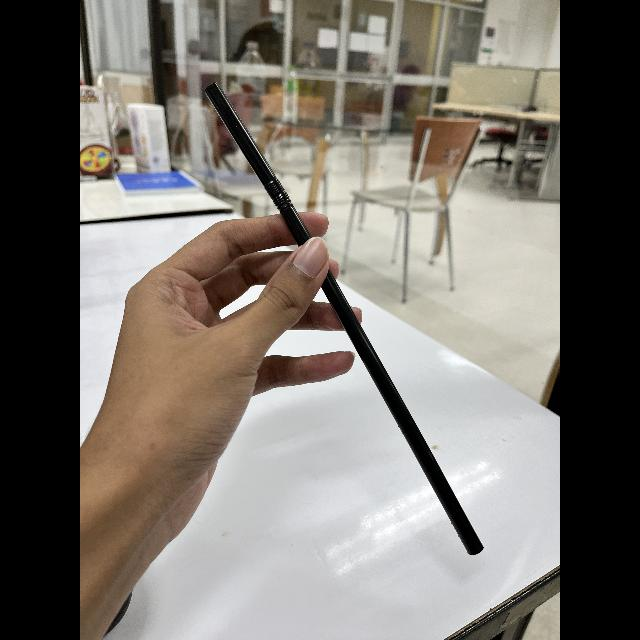straw: (200, 80, 486, 556)
